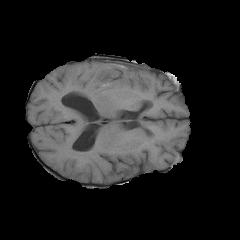glioma: (76, 60, 144, 96)
